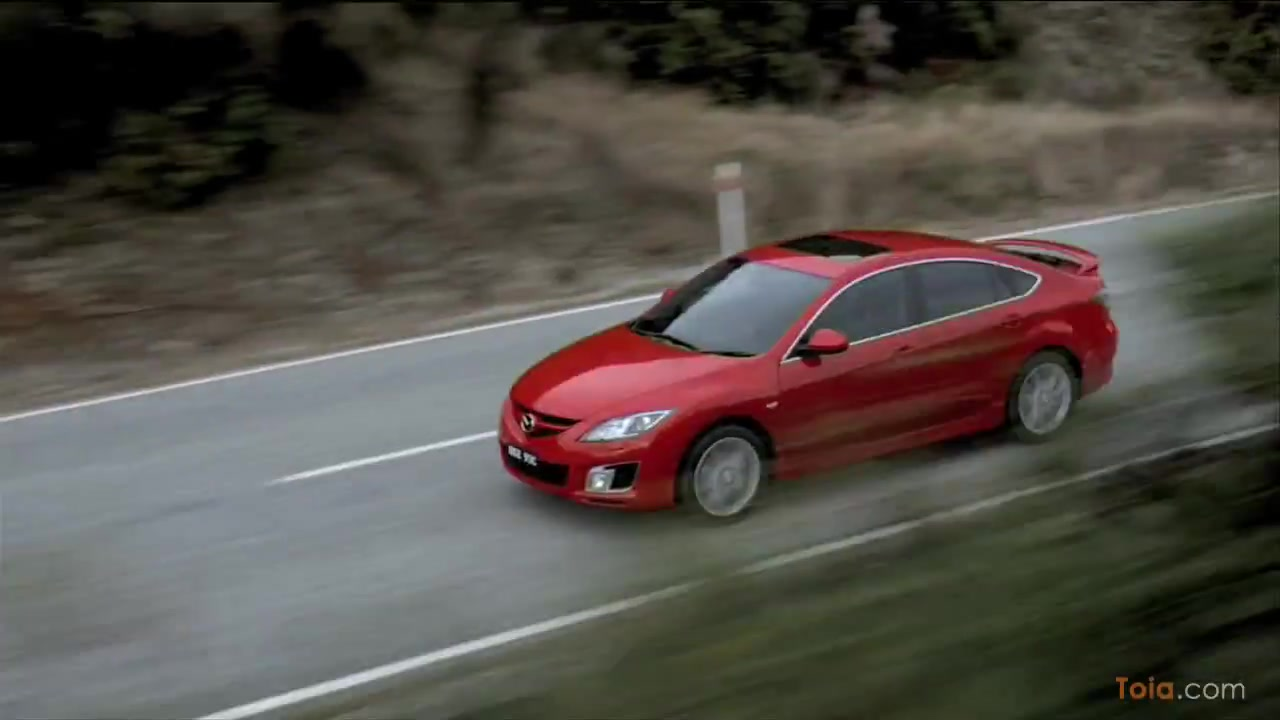car: (497, 227, 1123, 528)
